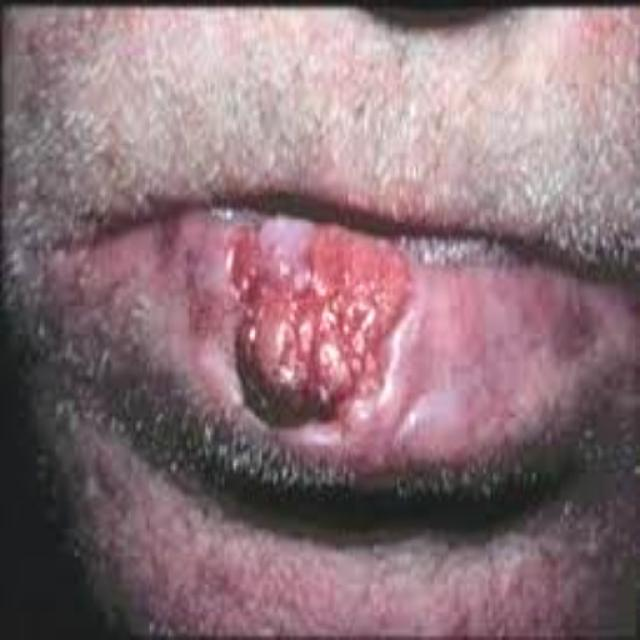cancer-detection: (180, 210, 423, 436)
processing_area: (33, 207, 639, 516)
